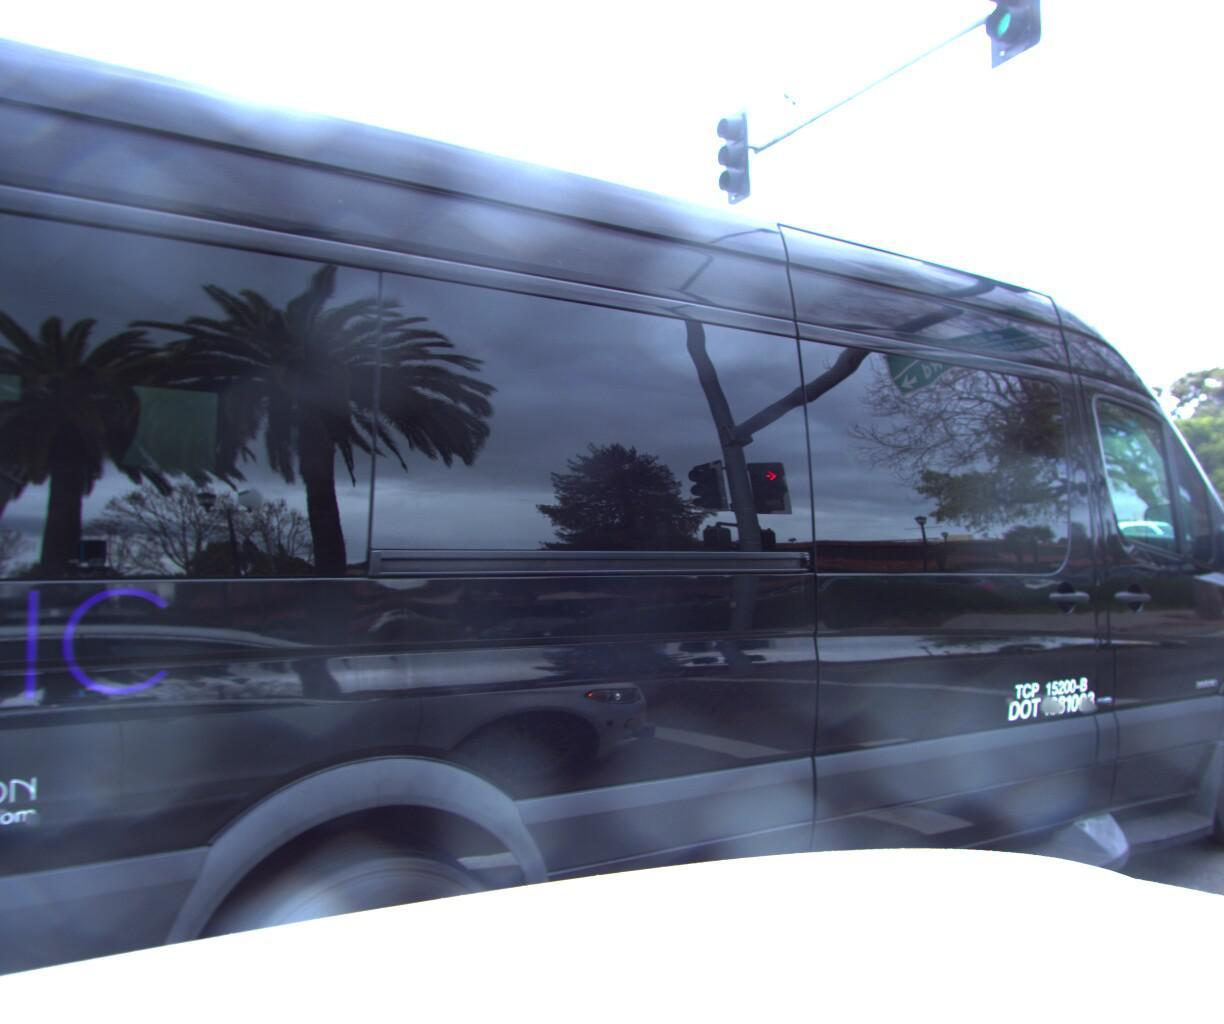car: (1185, 529, 1224, 592)
other_vehicle: (0, 0, 1224, 1024)
